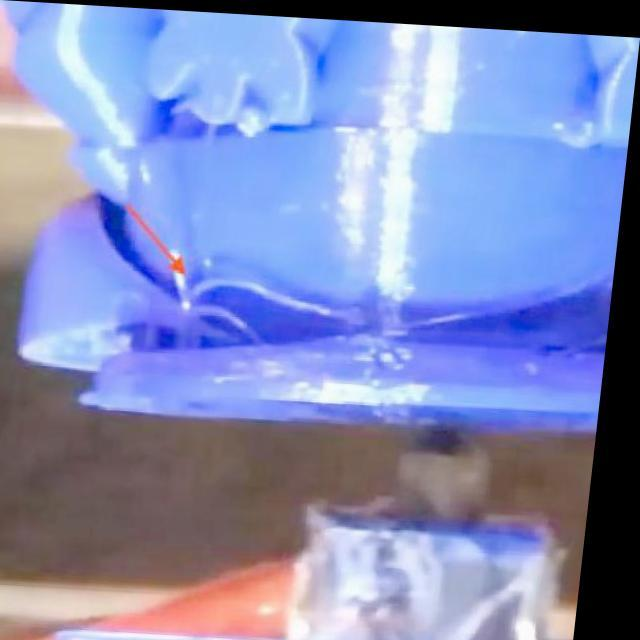spaghetti: (181, 263, 398, 366)
